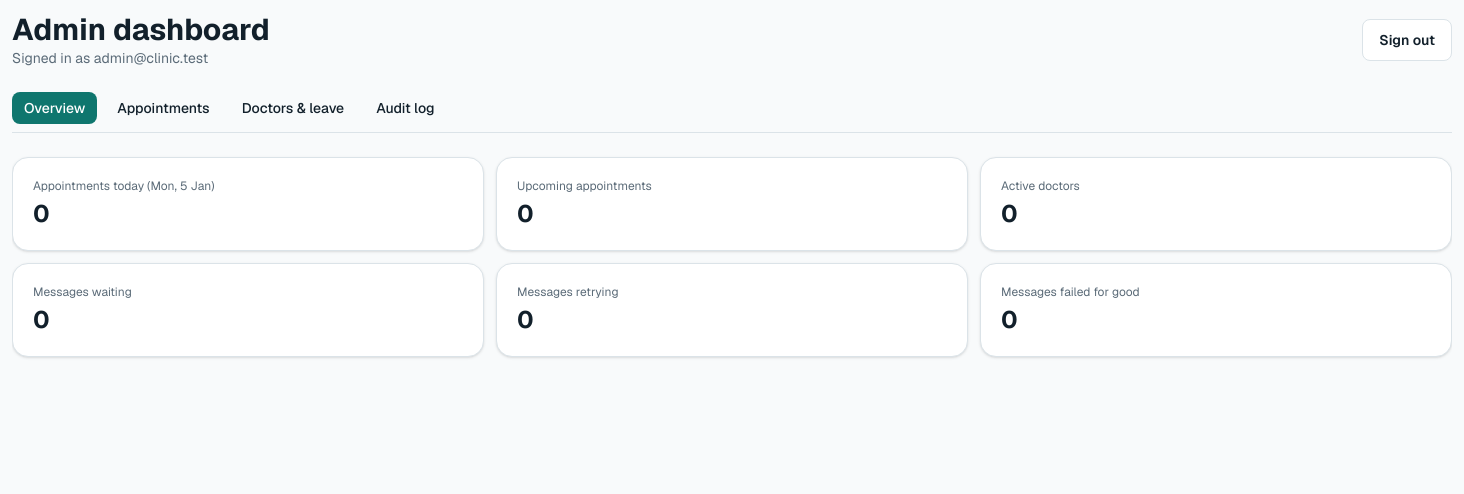
Test: admin dashboard › adds leave and warns about already-booked appointments
Step 1. Click the tab "Doctors & leave" → (293, 108), box [230, 92, 356, 124]
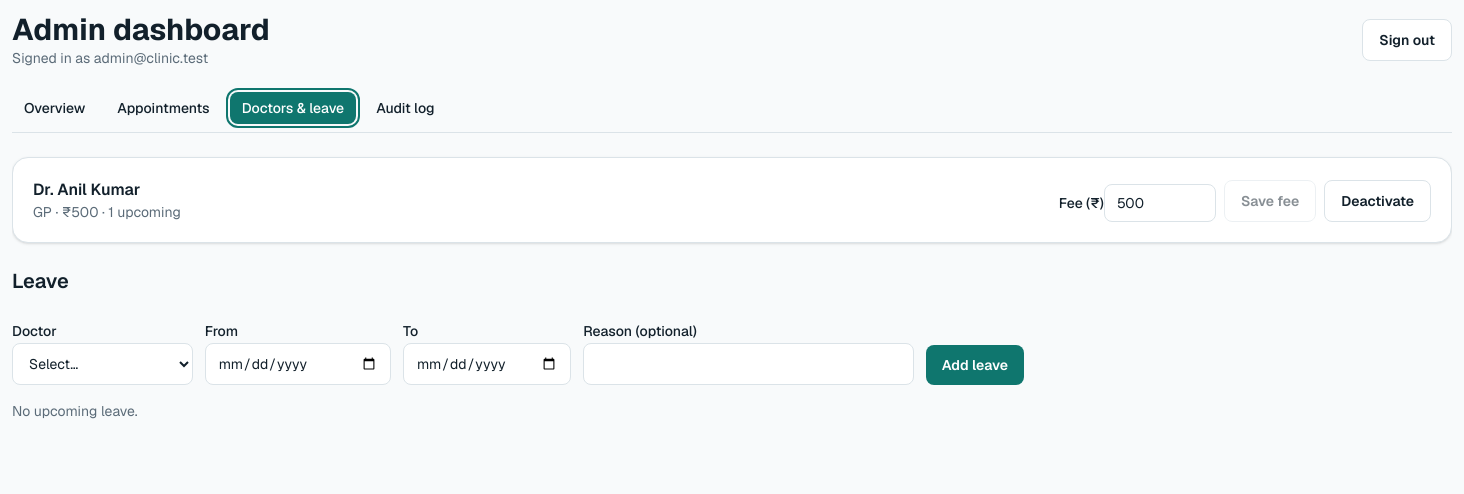
expect the dropdown labelled "Doctor" is shown: met, box [12, 343, 193, 385]
Step 2. Click the button "Add leave" → (975, 365), box [926, 345, 1024, 385]
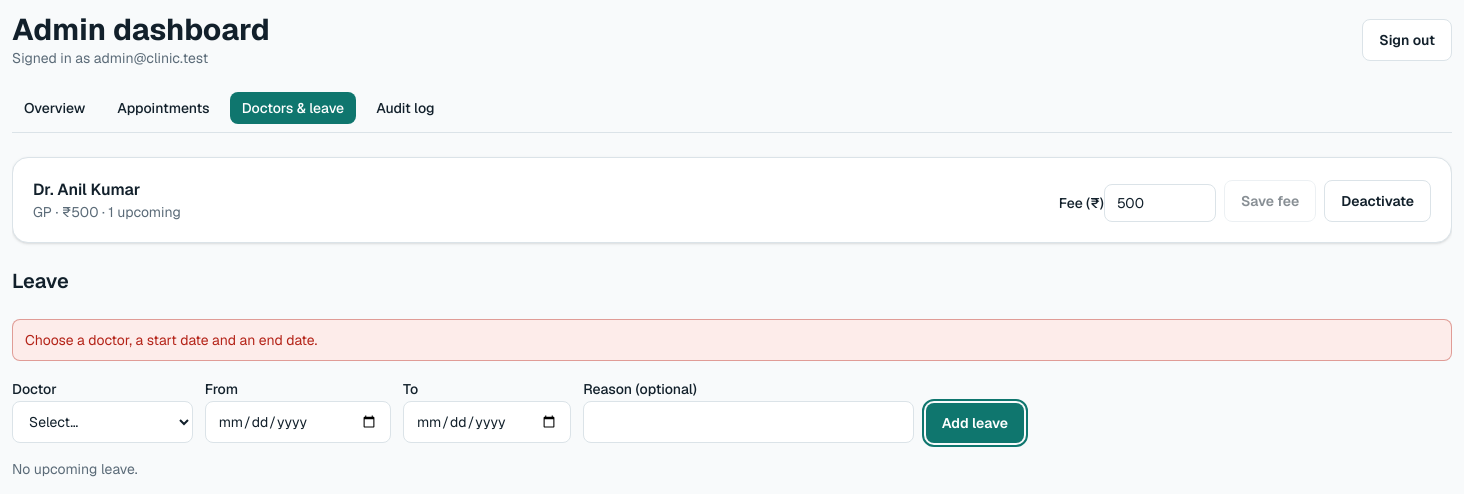
expect the text "Choose a doctor, a start date and an end date." is shown: met, box [12, 319, 1452, 361]
Step 3. Select "Dr. Anil Kumar" in the dropdown labelled "Doctor" → (102, 422), box [12, 401, 193, 443]
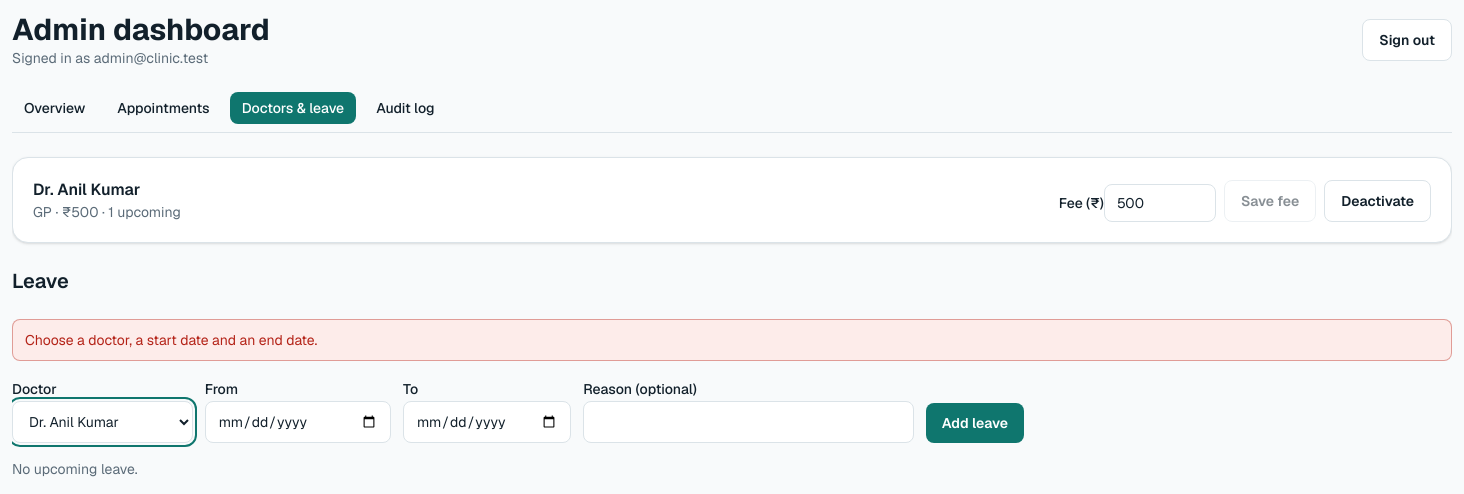
Step 4. Type "2099-01-05" into the date field labelled "From" → (298, 422), box [205, 401, 391, 443]
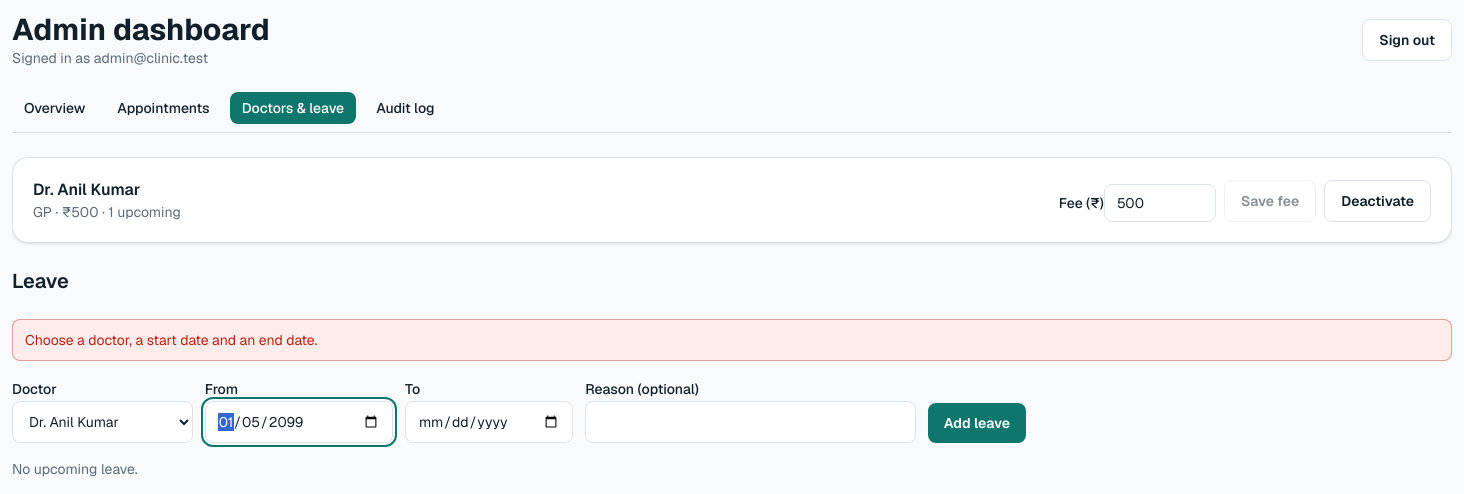
Step 5. Type "2099-01-06" into the date field labelled "To" → (489, 422), box [405, 401, 573, 443]
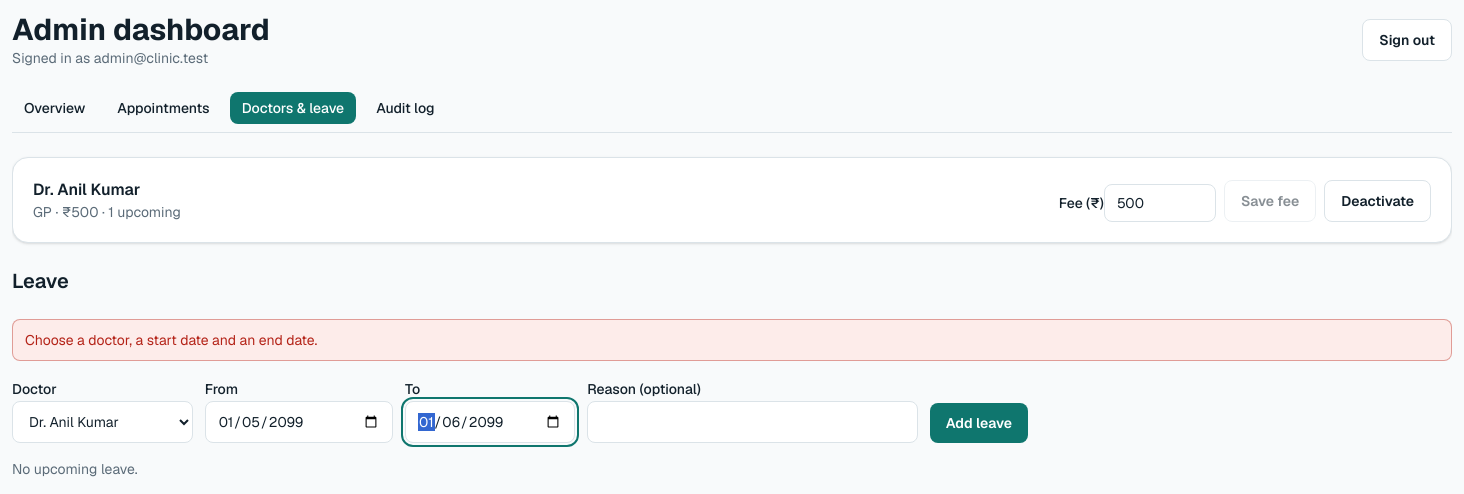
Step 6. Click the button "Add leave" → (979, 423), box [930, 403, 1028, 443]
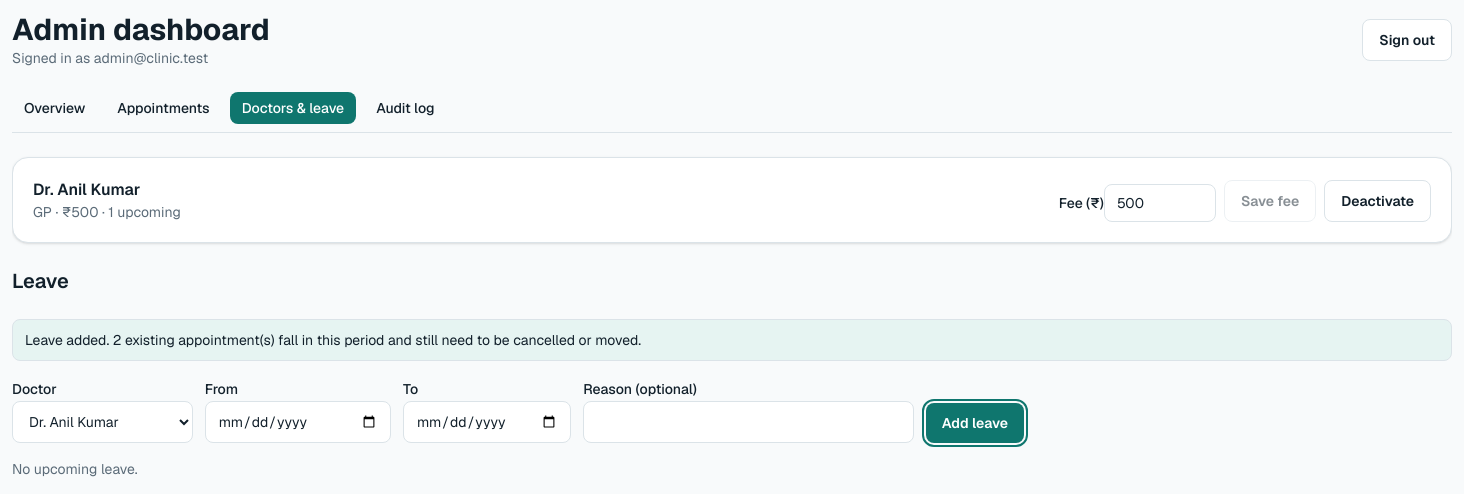
expect the text "2 existing appointment(s)" is shown: met, box [25, 331, 641, 349]
